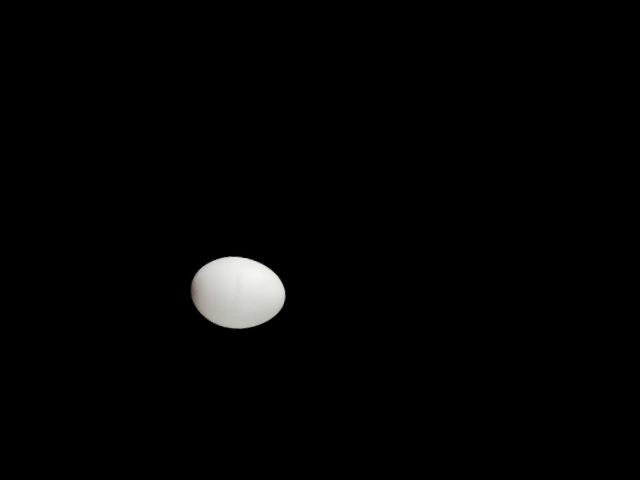egg: (187, 251, 288, 332)
